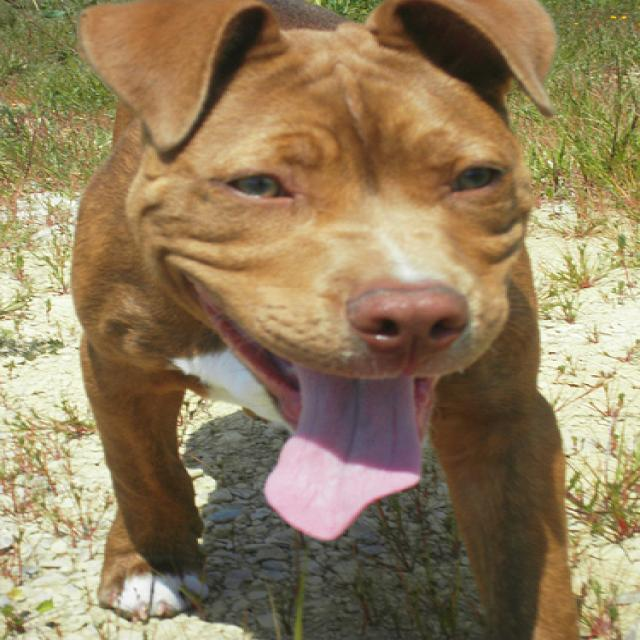dog-american_pit_bull_terrier: (58, 1, 604, 637)
